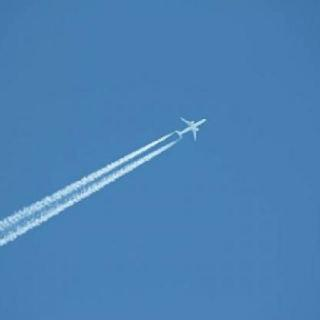Contrails: (0, 0, 320, 276)
